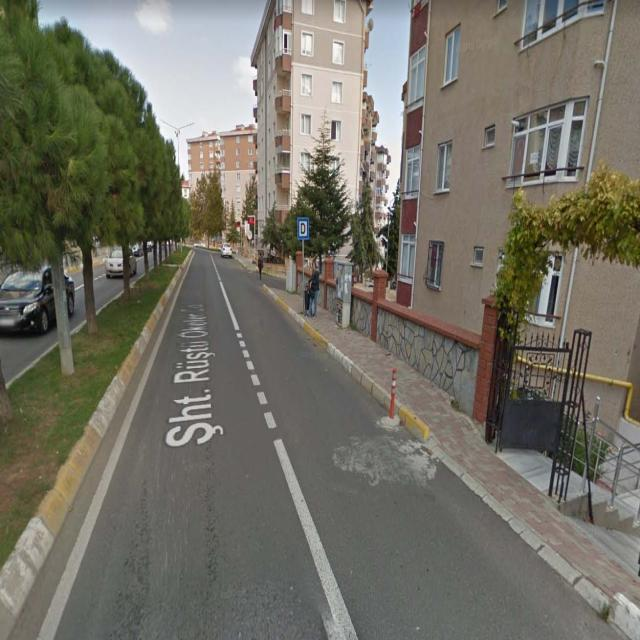durak: (297, 217, 308, 240)
